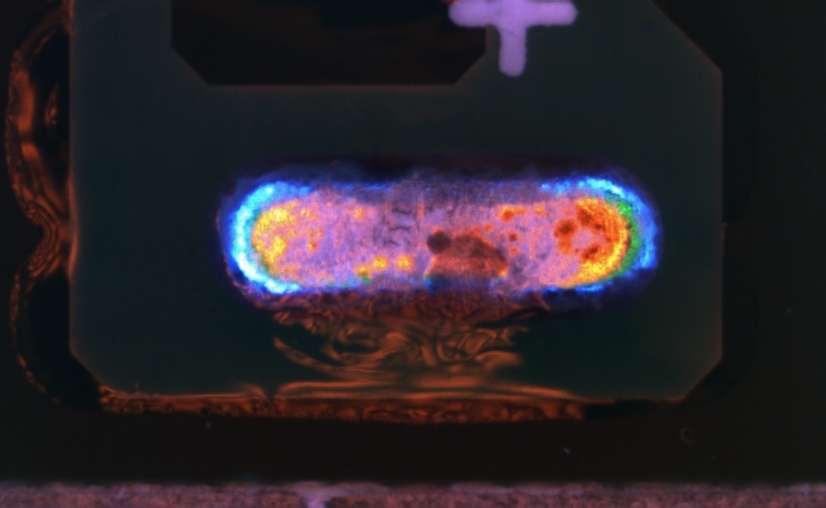virtual_welding: (211, 173, 665, 298)
